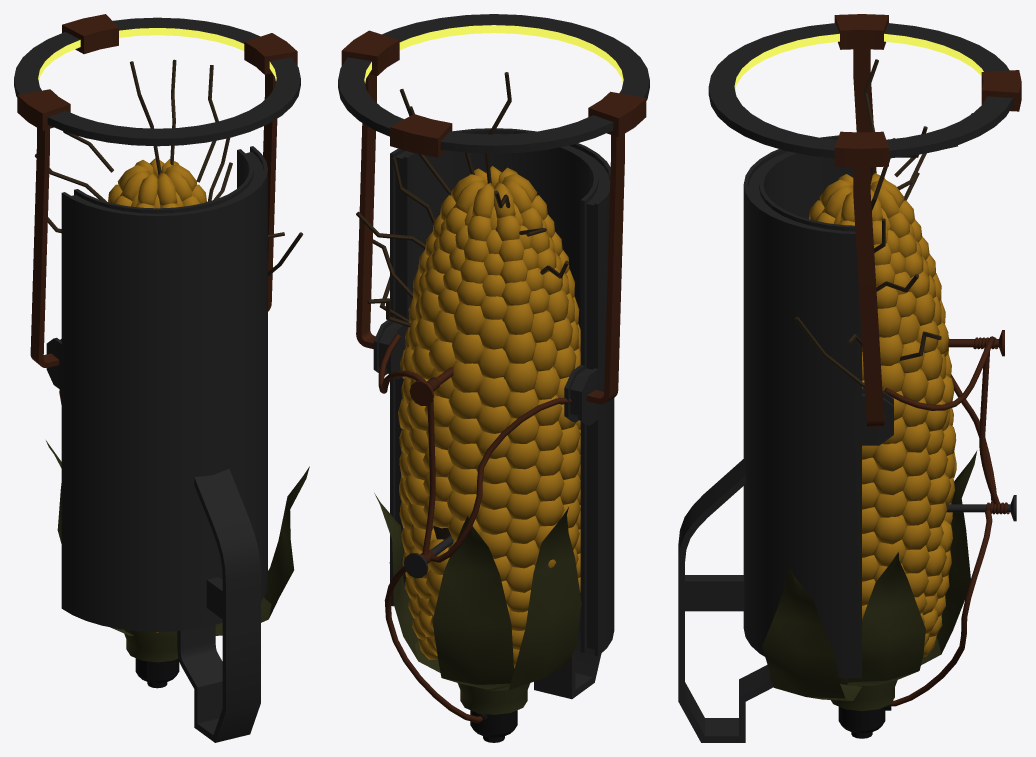
Rendered from PlasmaGun.fbx.
The picture shows the model from 3 angles, left to right: view 1: azimuth 30°, elevation 25°; view 2: azimuth 150°, elevation 25°; view 3: azimuth 270°, elevation 25°; orthographic projection. The views are drawn at different scales.
Parts seen in each view (by area): view 1: CornGun; view 2: CornGun; view 3: CornGun.
Part boxes in pixels (box(x1,y1,x2,y2)): CornGun: box(14, 14, 309, 742); CornGun: box(338, 14, 649, 742); CornGun: box(678, 14, 1021, 742).
Bounding box in the file's own units: 36.75 × 39.52 × 84.47.
